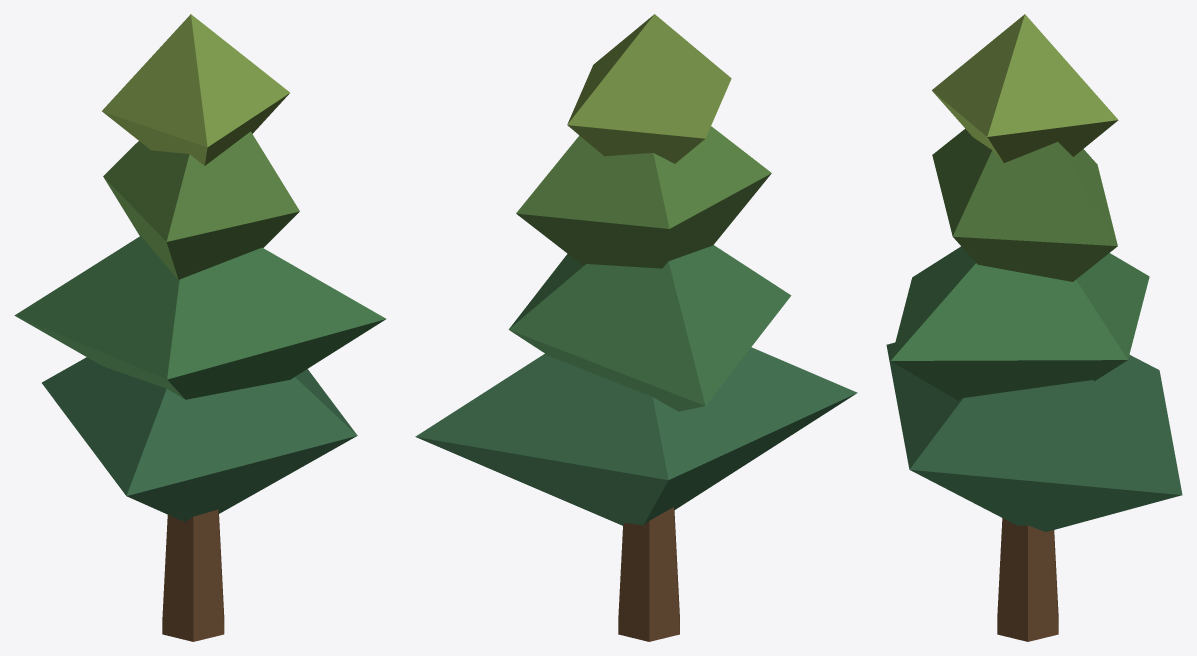
Rendered from tree-pine-canopy-1.gltf.
The picture shows the model from 3 angles, left to right: view 1: azimuth 30°, elevation 25°; view 2: azimuth 150°, elevation 25°; view 3: azimuth 270°, elevation 25°; orthographic projection.
Visible parts, largest first — view 1: tree-pine-canopy-1; view 2: tree-pine-canopy-1; view 3: tree-pine-canopy-1.
Boxes of the visible parts, x1=… form: tree-pine-canopy-1: x1=14, y1=14, x2=385, y2=641; tree-pine-canopy-1: x1=415, y1=14, x2=857, y2=641; tree-pine-canopy-1: x1=886, y1=14, x2=1182, y2=641.
Size of the model in its own units: 0.8491 by 1.69 by 0.7419.
